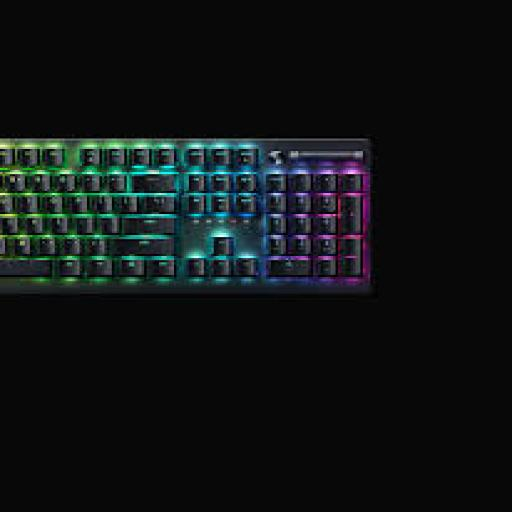keyboard: (0, 138, 365, 290)
